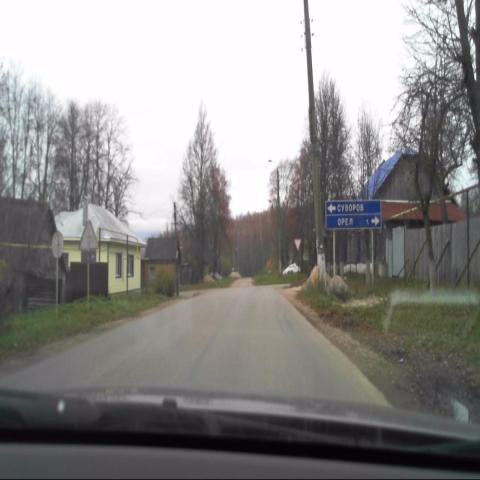2_4: (293, 237, 301, 252)
